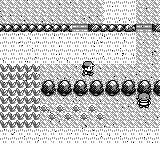captura: (1, 64, 40, 128)
main: (82, 61, 95, 76)
no-caminable: (41, 80, 160, 96)
npc: (137, 92, 151, 108)
salto: (1, 24, 70, 31), (89, 24, 136, 31), (152, 24, 160, 31)
